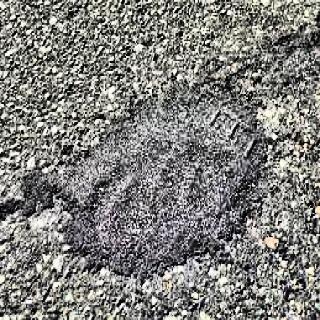pothole: (44, 64, 278, 279)
